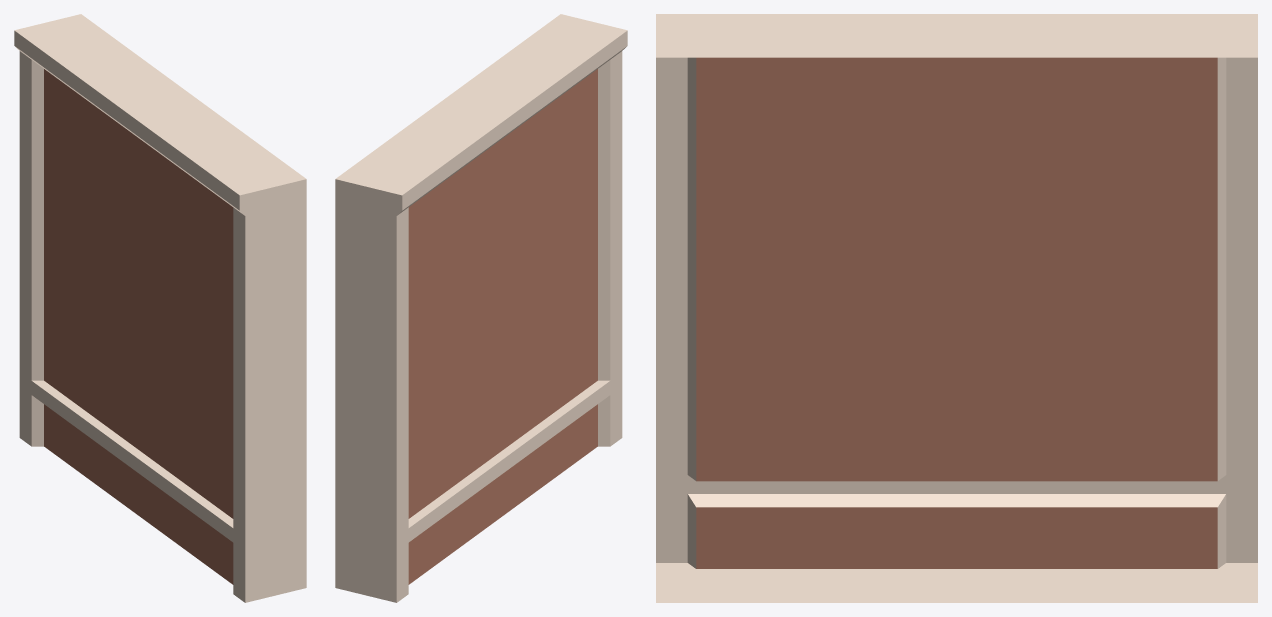
File: O_V_F_Type7_Blank.fbx
3 views of the same model, side by side, from view 1: azimuth 30°, elevation 25°; view 2: azimuth 150°, elevation 25°; view 3: azimuth 270°, elevation 25° (orthographic). The views are drawn at different scales.
Parts seen in each view (by area): view 1: Box044; view 2: Box044; view 3: Box044.
Boxes of the visible parts, <box> form: Box044: <box>14,14,306,602</box>; Box044: <box>335,14,627,602</box>; Box044: <box>656,14,1257,602</box>.
Size of the model in its own units: 0.5142 by 3 by 3.
